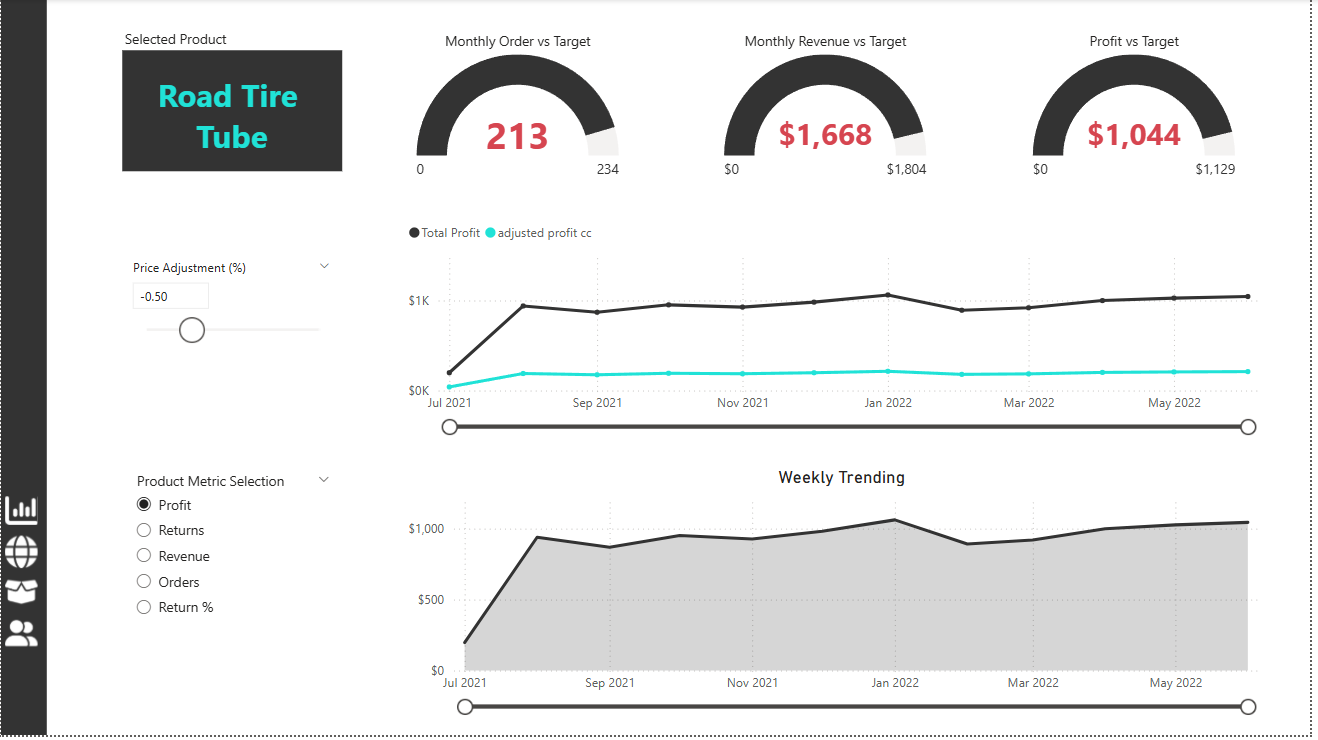

The dashboard page shown, as its layout file describes it:
{"tool":"powerbi","page":{"name":"Product Detail","canvas":[1280,720],"ordinal":2},"visuals":[{"type":"shape","box":[0,0,45,720],"z":0},{"type":"gauge","title":"Monthly Order vs Target","fields":{"Y":["Measure Table.Total Orders"],"MaxValue":["Measure Table.Order Target"]},"box":[393.5,31.8,223.8,154.1],"z":1000},{"type":"actionButton","box":[0,480.6,45.5,39.8],"z":1000,"group":"g1"},{"type":"gauge","title":"Monthly Revenue vs Target","fields":{"Y":["Measure Table.Total Revenue"],"MaxValue":["Measure Table.Revenue Target"]},"box":[695.1,31.8,223.8,154.1],"z":2000},{"type":"actionButton","box":[0,560.2,45.5,39.8],"z":2000,"group":"g1"},{"type":"gauge","title":"Profit vs Target","fields":{"Y":["Measure Table.Total Profit"],"MaxValue":["Measure Table.Profit Target"]},"box":[996.6,31.8,223.8,154.1],"z":3000},{"type":"actionButton","box":[0,600.1,45.5,39.8],"z":3000,"group":"g1"},{"type":"lineChart","title":" Profit Trending","fields":{"Category":["Calendar Lookup.Date Hierarchy.Year","Calendar Lookup.Date Hierarchy.Start of Month","Calendar Lookup.Date Hierarchy.Start of Week","Calendar Lookup.Date Hierarchy.Date"],"Y":["Measure Table.Total Profit","Measure Table.adjusted profit cc"]},"box":[393.8,209.1,857.2,220.1],"z":4000},{"type":"actionButton","box":[0,520.4,45.5,39.8],"z":4000,"group":"g1"},{"type":"areaChart","title":"Weekly Trending","fields":{"Y":["Measure Table.Total Profit"],"Category":["Calendar Lookup.Date Hierarchy.Year","Calendar Lookup.Date Hierarchy.Start of Month","Calendar Lookup.Date Hierarchy.Start of Week","Calendar Lookup.Date Hierarchy.Date"]},"box":[393.8,457.3,857.2,245.8],"z":5000},{"type":"card","fields":{"Values":["Min(Product Lookup.ProductName)"]},"box":[118.6,50.1,215.2,118.6],"z":6000},{"type":"textbox","box":[116.2,24.5,242.1,42.8],"z":7000},{"type":"group","id":"g1","title":"Nav bar","box":[0,480.6,45.2,159],"z":8000},{"type":"slicer","fields":{"Values":["Price Adjustment (%).Price Adjustment (%)"]},"box":[116.2,249.5,217.7,110.1],"z":9000},{"type":"slicer","fields":{"Values":["Product Metric Selection 2.Product Metric Selection"]},"box":[119.8,457.3,214,161.4],"z":10000}]}

Visuals, with their boxes on the page's 1280x720 design canvas (x1, y1, x2, y2). These are canvas units, not pixel positions in the 1318x740 screenshot, which may show the page scaled, cropped or inside an application window:
shape: <box>0,0,45,720</box>
"Monthly Order vs Target" gauge: <box>394,32,617,186</box>
actionButton: <box>0,481,46,520</box>
"Monthly Revenue vs Target" gauge: <box>695,32,919,186</box>
actionButton: <box>0,560,46,600</box>
"Profit vs Target" gauge: <box>997,32,1220,186</box>
actionButton: <box>0,600,46,640</box>
" Profit Trending" lineChart: <box>394,209,1251,429</box>
actionButton: <box>0,520,46,560</box>
"Weekly Trending" areaChart: <box>394,457,1251,703</box>
card - Min(Product Lookup.ProductName): <box>119,50,334,169</box>
textbox: <box>116,24,358,67</box>
"Nav bar" group: <box>0,481,45,640</box>
slicer - Price Adjustment (%).Price Adjustment (%): <box>116,250,334,360</box>
slicer - Product Metric Selection 2.Product Metric Selection: <box>120,457,334,619</box>
